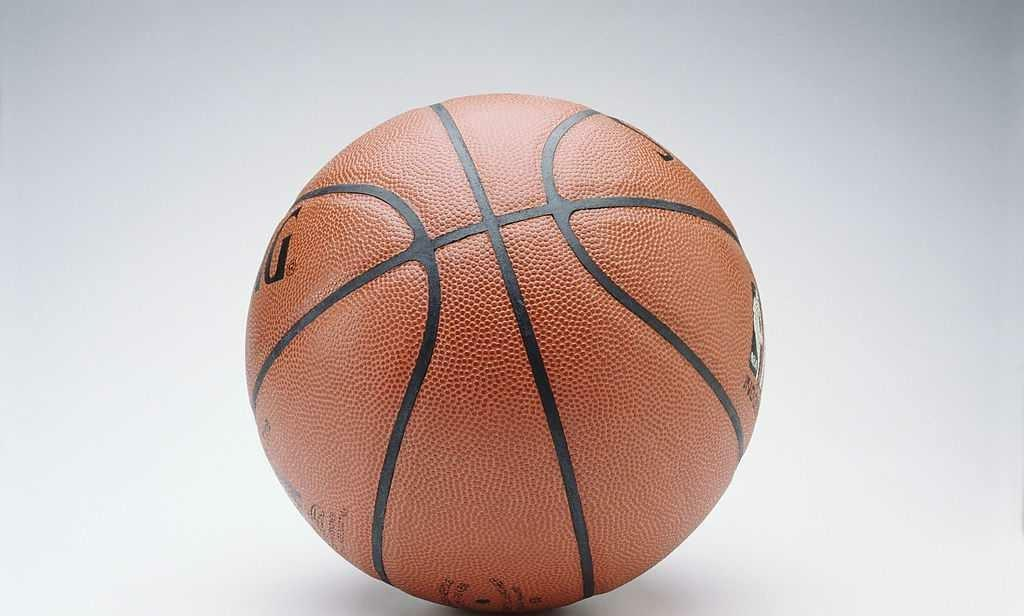ball: (247, 91, 766, 616)
